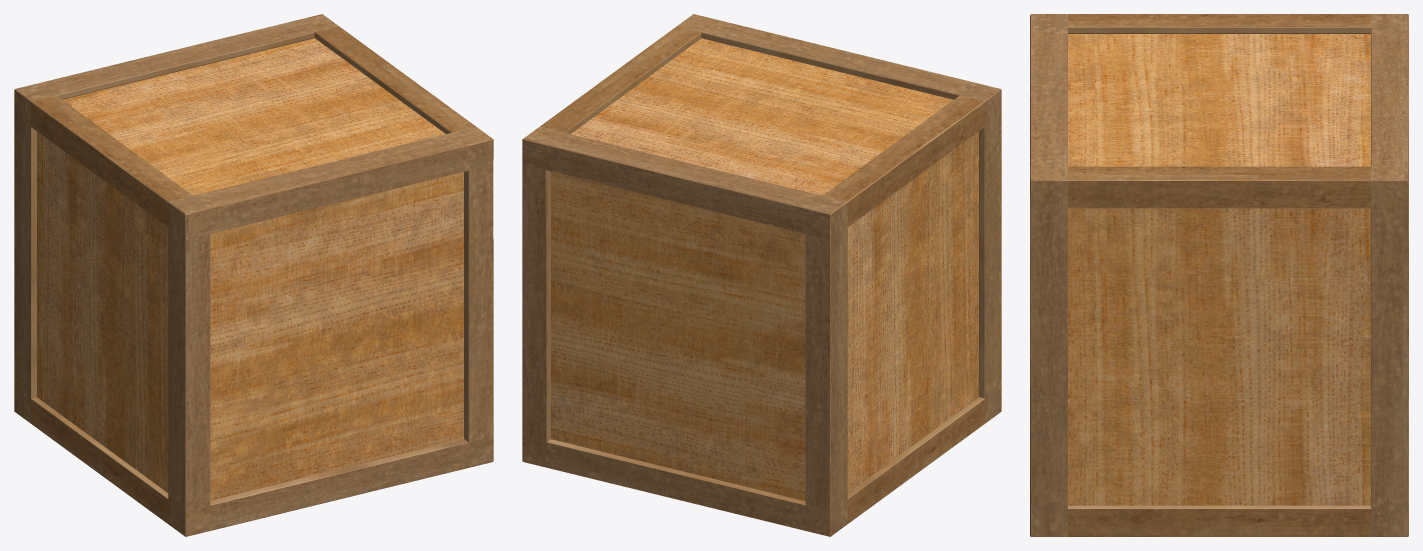
The picture shows the model from 3 angles, left to right: view 1: azimuth 30°, elevation 25°; view 2: azimuth 150°, elevation 25°; view 3: azimuth 270°, elevation 25°; orthographic projection. The views are drawn at different scales.
Parts seen in each view (by area): view 1: Container_1, Container_2; view 2: Container_1, Container_2; view 3: Container_1, Container_2.
Part boxes in pixels (box(x1,y1,x2,y2)): Container_1: box(37, 38, 463, 500); Container_2: box(14, 14, 493, 536); Container_1: box(551, 38, 978, 501); Container_2: box(522, 14, 1001, 536); Container_1: box(1068, 34, 1370, 505); Container_2: box(1030, 14, 1408, 536).
Bounding box in the file's own units: 40.94 × 40.96 × 39.36.
